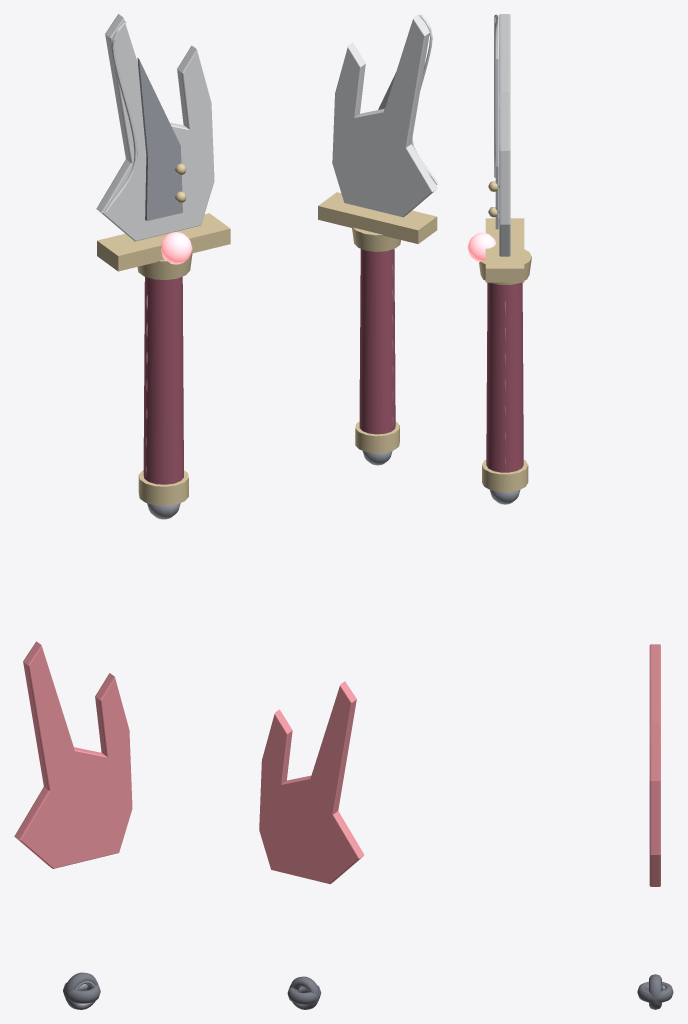
Rendered from kaizen_right.glb.
3 views of the same model, side by side, from view 1: azimuth 30°, elevation 25°; view 2: azimuth 150°, elevation 25°; view 3: azimuth 270°, elevation 25° (orthographic). The views are drawn at different scales.
Visible parts, largest first — view 1: kaizen_right; view 2: kaizen_right; view 3: kaizen_right.
Part boxes in pixels (x1,y1,x2,y2): kaizen_right: (14, 14, 230, 1009); kaizen_right: (259, 14, 438, 1009); kaizen_right: (467, 14, 673, 1009).
Bounding box in the file's own units: 0.2049 × 1.72 × 0.3289.
